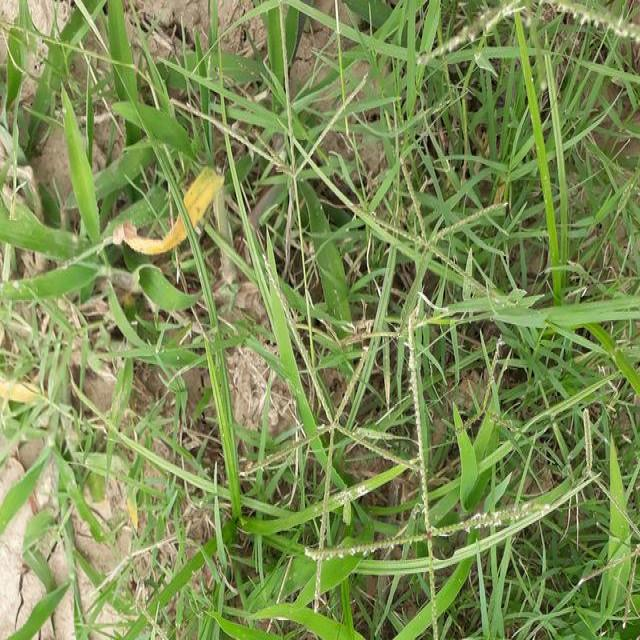weed: (129, 4, 640, 639)
